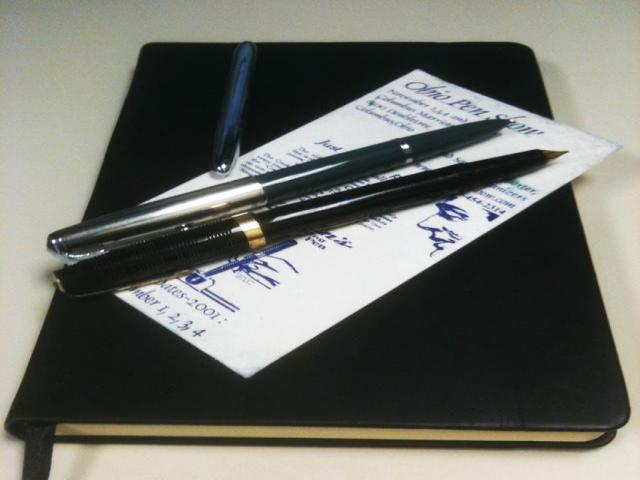PEN: (50, 116, 586, 306), (37, 85, 540, 265)
